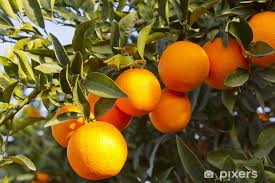orange: (66, 121, 129, 178), (156, 41, 211, 94), (202, 32, 250, 92), (109, 68, 161, 116), (86, 85, 134, 133), (151, 88, 193, 133), (49, 102, 91, 145)
